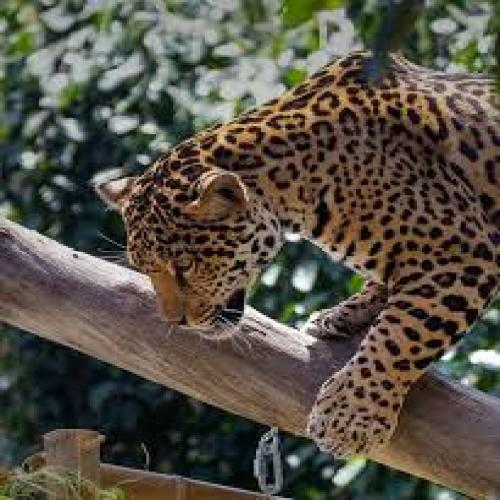jaguar_not-endangered: (94, 40, 500, 463)
